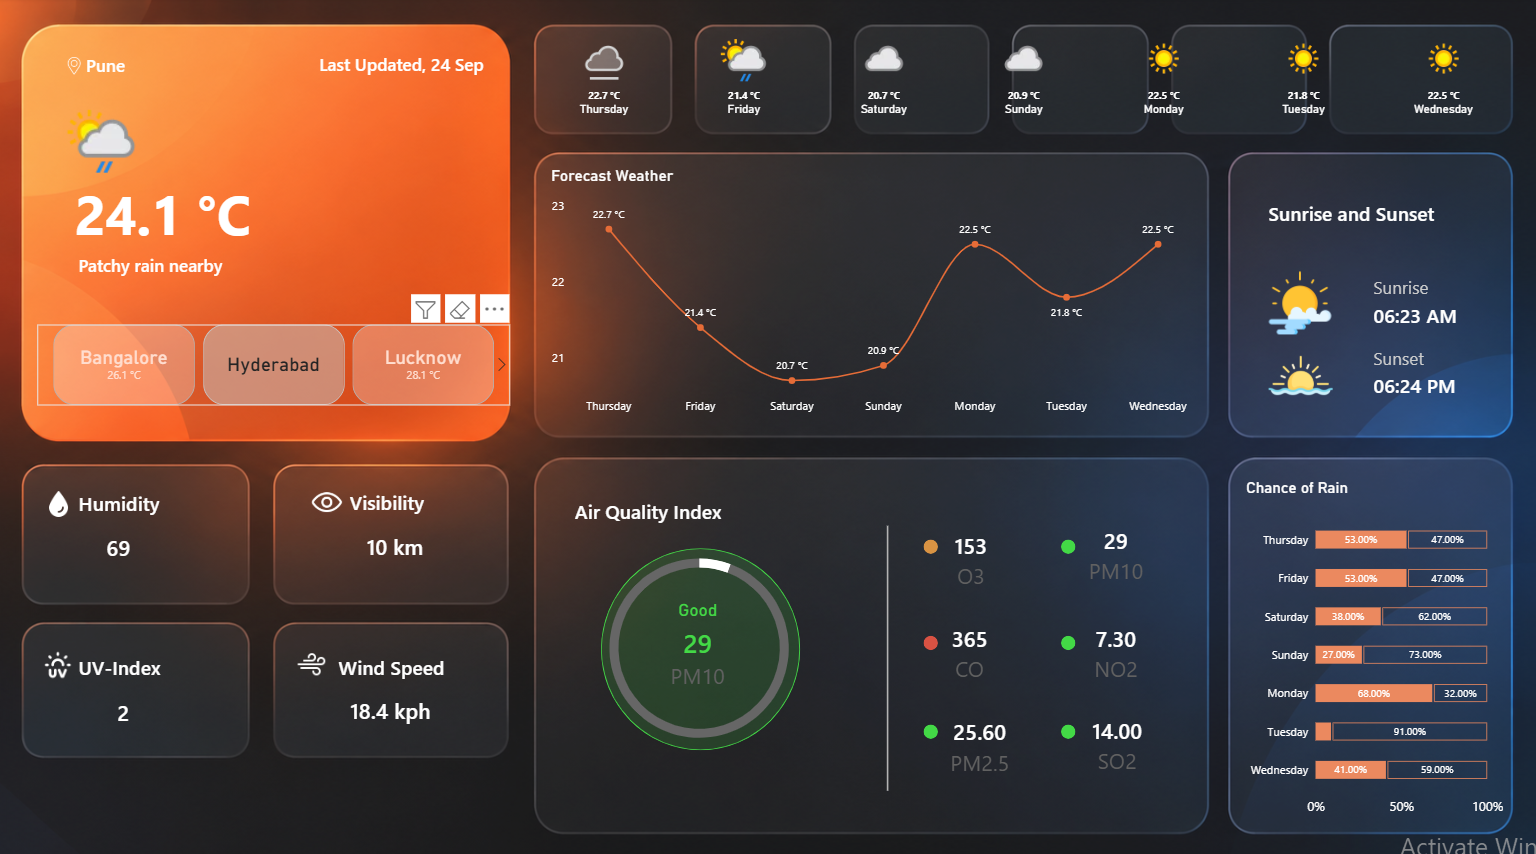

This screenshot's page, from the dashboard's own definition file:
{"tool":"powerbi","page":{"name":"Page 1","canvas":[1920,1080],"ordinal":0},"visuals":[{"type":"shape","box":[751.7,685.5,247.7,251.2],"z":0},{"type":"advancedSlicerVisual","fields":{"Values":["Location.location.name"]},"box":[52,408,588,100],"z":1000},{"type":"shape","box":[98,212,250,115],"z":2000},{"type":"shape","box":[102,304,247.5,57.5],"z":3000},{"type":"shape","box":[112,56,190,57.5],"z":4000},{"type":"shape","box":[388,54,218,58],"z":5000},{"type":"image","box":[82,74,30,21.8],"z":6000},{"type":"cardVisual","fields":{"Data":["Min(Current.current.condition.icon)"]},"box":[66,112,117.5,130],"z":7000},{"type":"image","box":[388.6,605.7,45.7,44.3],"z":8000},{"type":"image","box":[51.4,811.4,51.4,38.6],"z":9000},{"type":"image","box":[372.9,811.4,38.6,37.1],"z":10000},{"type":"image","box":[60,612.9,34.3,35.7],"z":11000},{"type":"shape","box":[102.9,600,141.4,58.6],"z":12000},{"type":"shape","box":[440,598.6,112.9,58.6],"z":13000},{"type":"shape","box":[102.9,802.9,141.4,58.6],"z":14000},{"type":"shape","box":[425.7,802.9,141.4,58.6],"z":15000},{"type":"cardVisual","fields":{"Data":["Sum(Current.current.humidity)"]},"box":[120,657.5,65.4,53.1],"z":16000},{"type":"cardVisual","fields":{"Data":["_Measures.Wind_Speed"]},"box":[416.9,859.9,148.3,54.1],"z":17000},{"type":"cardVisual","fields":{"Data":["_Measures.Visibility"]},"box":[439.5,655.8,113.4,54.1],"z":18000},{"type":"cardVisual","fields":{"Data":["Sum(Current.current.uv)"]},"box":[126,862,65.4,53.1],"z":19000},{"type":"advancedSlicerVisual","fields":{"Values":["Forcast_Day.Day_Name"]},"box":[673.3,35,1216.7,120],"z":20000},{"type":"lineChart","title":"Forecast Weather","fields":{"Category":["Forcast_Day.Day_Name"],"Y":["Sum(Forcast_Day.forecast.forecastday.day.avgtemp_c)"]},"box":[674,198,832,342],"z":21000},{"type":"shape","box":[1581.9,239.8,207.6,59.3],"z":22000},{"type":"shape","box":[1712.9,370.8,104.8,50.4],"z":23000},{"type":"shape","box":[1712.9,459.4,104.8,46.3],"z":24000},{"type":"shape","box":[1713.7,336.1,104.8,50.4],"z":25000},{"type":"shape","box":[1712.9,425.2,104.8,46.3],"z":26000},{"type":"image","box":[1581.9,340.6,78.6,80.6],"z":27000},{"type":"image","box":[1581.9,431.2,80,80],"z":28000},{"type":"hundredPercentStackedBarChart","title":"Chance of Rain","fields":{"Category":["Forcast_Day.Day_Name"],"Y":["Sum(Forcast_Day.forecast.forecastday.day.daily_chance_of_rain)","_Measures.Left_value_Rain"]},"box":[1539.6,584,351.5,454],"z":29000},{"type":"shape","box":[720.4,608.7,207.6,59.3],"z":30000},{"type":"cardVisual","fields":{"Data":["Sum(Current.current.air_quality.pm10)"]},"box":[1323.6,649.9,141,91.5],"z":31000},{"type":"cardVisual","fields":{"Data":["Sum(Current.current.air_quality.so2)"]},"box":[1323.8,886,141,91.5],"z":32000},{"type":"cardVisual","fields":{"Data":["Sum(Current.current.air_quality.no2)"]},"box":[1323.6,770.7,141,91.5],"z":33000},{"type":"cardVisual","fields":{"Data":["Sum(Current.current.air_quality.o3)"]},"box":[1142.4,655.8,141,91.5],"z":34000},{"type":"cardVisual","fields":{"Data":["Sum(Current.current.air_quality.co)"]},"box":[1140.7,770.9,141,91.5],"z":35000},{"type":"cardVisual","fields":{"Data":["Sum(Current.current.air_quality.pm2_5)"]},"box":[1152.9,887.8,141,91.5],"z":36000},{"type":"shape","box":[1152.9,793.6,18,18],"z":37000},{"type":"shape","box":[1323.8,675,18,18],"z":38000},{"type":"shape","box":[1152.9,905.2,18,18],"z":39000},{"type":"shape","box":[1152.9,675,18,18],"z":40000},{"type":"shape","box":[1323.8,793.6,18,18],"z":41000},{"type":"shape","box":[1323.8,905.2,18,18],"z":42000},{"type":"shape","box":[1048.3,657.6,122.1,329.7],"z":43000},{"type":"cardVisual","fields":{"Data":["Sum(Current.current.air_quality.pm10)"]},"box":[786.6,750,172.7,111.6],"z":44000},{"type":"donutChart","fields":{"Y":["Sum(Current.current.air_quality.pm10)","_Measures.Left_value_PM10"]},"box":[689,655.8,371.5,308.7],"z":45000}]}

Visuals, with their boxes in screenshot pixels (x1, y1, x2, y2), scaled from the page's 1920x1080 canvas onto the 1536x854 screenshot:
shape: left=601, top=542, right=800, bottom=741
advancedSlicerVisual - Location.location.name: left=42, top=323, right=512, bottom=402
shape: left=78, top=168, right=278, bottom=259
shape: left=82, top=240, right=280, bottom=286
shape: left=90, top=44, right=242, bottom=90
shape: left=310, top=43, right=485, bottom=89
image: left=66, top=59, right=90, bottom=76
cardVisual - Min(Current.current.condition.icon): left=53, top=89, right=147, bottom=191
image: left=311, top=479, right=347, bottom=514
image: left=41, top=642, right=82, bottom=672
image: left=298, top=642, right=329, bottom=671
image: left=48, top=485, right=75, bottom=513
shape: left=82, top=474, right=195, bottom=521
shape: left=352, top=473, right=442, bottom=520
shape: left=82, top=635, right=195, bottom=681
shape: left=341, top=635, right=454, bottom=681
cardVisual - Sum(Current.current.humidity): left=96, top=520, right=148, bottom=562
cardVisual - _Measures.Wind_Speed: left=334, top=680, right=452, bottom=723
cardVisual - _Measures.Visibility: left=352, top=519, right=442, bottom=561
cardVisual - Sum(Current.current.uv): left=101, top=682, right=153, bottom=724
advancedSlicerVisual - Forcast_Day.Day_Name: left=539, top=28, right=1512, bottom=123
"Forecast Weather" lineChart: left=539, top=157, right=1205, bottom=427
shape: left=1266, top=190, right=1432, bottom=237
shape: left=1370, top=293, right=1454, bottom=333
shape: left=1370, top=363, right=1454, bottom=400
shape: left=1371, top=266, right=1455, bottom=306
shape: left=1370, top=336, right=1454, bottom=373
image: left=1266, top=269, right=1328, bottom=333
image: left=1266, top=341, right=1330, bottom=404
"Chance of Rain" hundredPercentStackedBarChart: left=1232, top=462, right=1513, bottom=821
shape: left=576, top=481, right=742, bottom=528
cardVisual - Sum(Current.current.air_quality.pm10): left=1059, top=514, right=1172, bottom=586
cardVisual - Sum(Current.current.air_quality.so2): left=1059, top=701, right=1172, bottom=773
cardVisual - Sum(Current.current.air_quality.no2): left=1059, top=609, right=1172, bottom=682
cardVisual - Sum(Current.current.air_quality.o3): left=914, top=519, right=1027, bottom=591
cardVisual - Sum(Current.current.air_quality.co): left=913, top=610, right=1025, bottom=682
cardVisual - Sum(Current.current.air_quality.pm2_5): left=922, top=702, right=1035, bottom=774
shape: left=922, top=628, right=937, bottom=642
shape: left=1059, top=534, right=1073, bottom=548
shape: left=922, top=716, right=937, bottom=730
shape: left=922, top=534, right=937, bottom=548
shape: left=1059, top=628, right=1073, bottom=642
shape: left=1059, top=716, right=1073, bottom=730
shape: left=839, top=520, right=936, bottom=781
cardVisual - Sum(Current.current.air_quality.pm10): left=629, top=593, right=767, bottom=681
donutChart - Sum(Current.current.air_quality.pm10) x _Measures.Left_value_PM10: left=551, top=519, right=848, bottom=763
